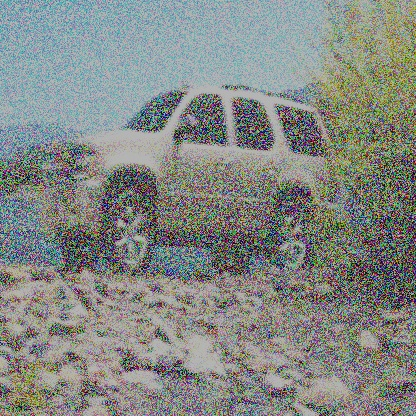Vehicle: (34, 82, 340, 276)
